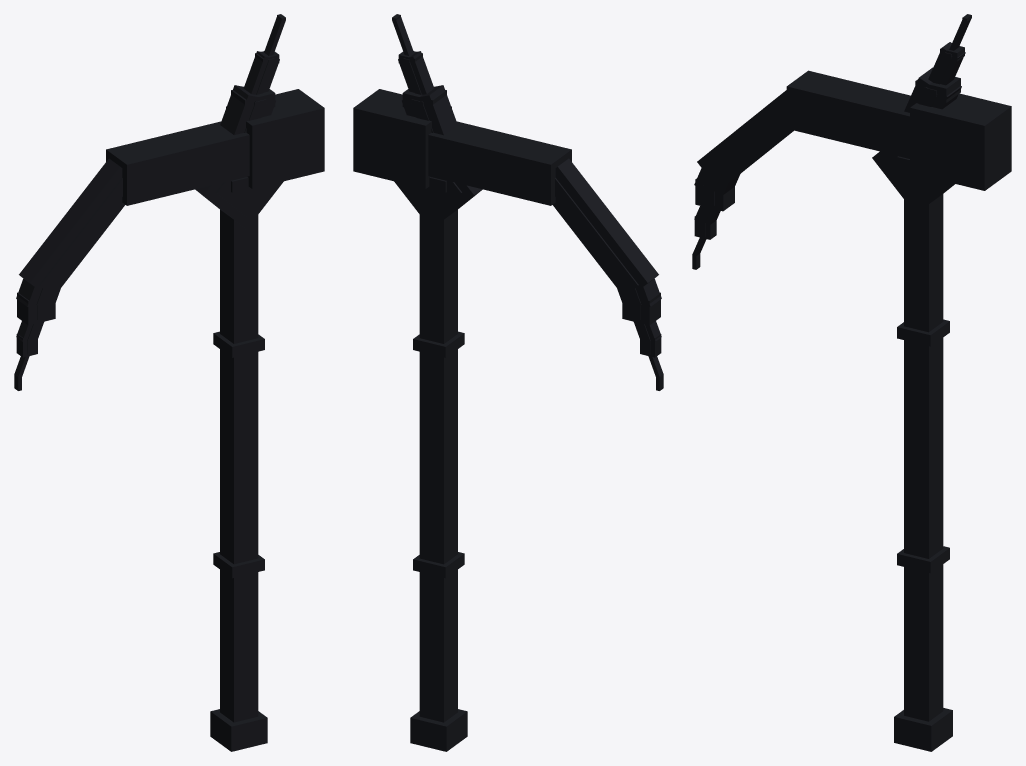
Rendered from endgame_hoe_smooth.obj.
3 views of the same model, side by side, from view 1: azimuth 30°, elevation 25°; view 2: azimuth 150°, elevation 25°; view 3: azimuth 330°, elevation 25° (orthographic). The views are drawn at different scales.
Parts seen in each view (by area): view 1: endgame_hoe; view 2: endgame_hoe; view 3: endgame_hoe.
Part boxes in pixels (<box>): endgame_hoe: <box>14,14,324,751</box>; endgame_hoe: <box>353,14,663,751</box>; endgame_hoe: <box>692,14,1011,751</box>.
Size of the model in its own units: 0.6105 by 1.41 by 0.0938.
